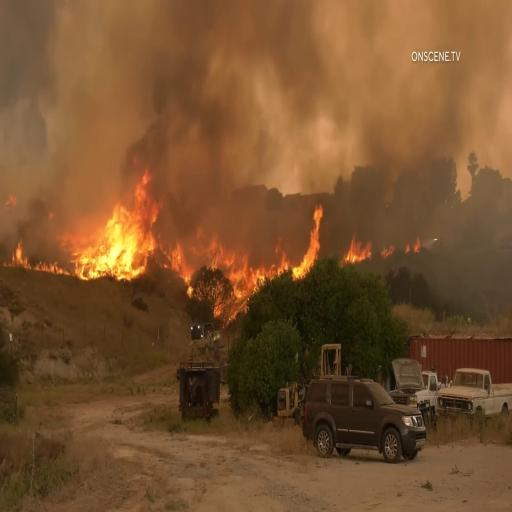fire: (76, 185, 160, 282), (214, 238, 262, 296), (292, 205, 327, 276)
smoke: (135, 10, 212, 172)
